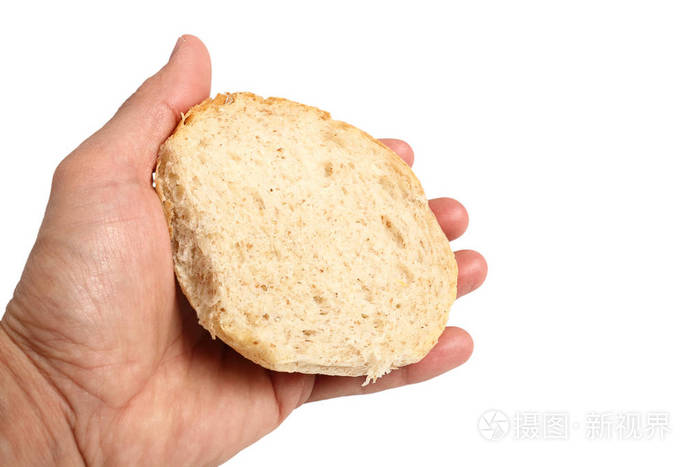no-phone: (5, 31, 489, 467)
